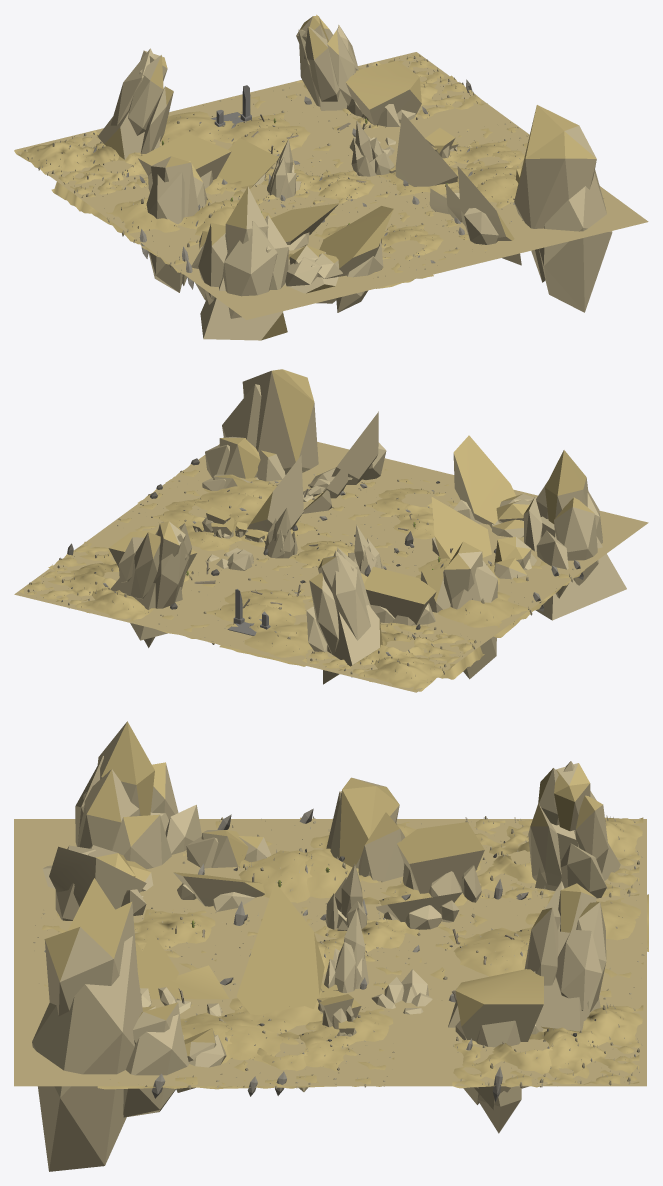
File: desert.glb
The picture shows the model from 3 angles, top to bottom: view 1: azimuth 30°, elevation 25°; view 2: azimuth 150°, elevation 25°; view 3: azimuth 270°, elevation 25°; orthographic projection. The views are drawn at different scales.
Visible parts, largest first — view 1: desertsand, cliffsmountains.020, cliffsmountains.021, Landscape2, Landscape8, Landscape6, cliffsmountains.142, cliffsmountains.085, Landscape7, cliffsmountains.016, cliffsmountains.033, cliffsmountains.086 (+26 smaller); view 2: desertsand, cliffsmountains.020, Landscape2, Landscape8, Landscape1, cliffsmountains.016, Landscape6, Landscape7, cliffsmountains.086, cliffsmountains.093, Landscape5, cliffsmountains.082 (+31 smaller); view 3: desertsand, cliffsmountains.021, Landscape1, cliffsmountains.033, cliffsmountains.020, Landscape7, Landscape6, Landscape8, Landscape2, cliffsmountains.142, Landscape4, cliffsmountains.093 (+40 smaller).
Boxes of the visible parts, x1,y1,x2,y2 form: desertsand: [14, 52, 648, 319]; cliffsmountains.020: [514, 105, 596, 282]; cliffsmountains.021: [539, 170, 612, 312]; Landscape2: [14, 130, 161, 213]; Landscape8: [160, 89, 355, 184]; Landscape6: [89, 174, 327, 289]; cliffsmountains.142: [345, 60, 421, 125]; cliffsmountains.085: [222, 221, 277, 318]; Landscape7: [376, 137, 605, 235]; cliffsmountains.016: [316, 206, 393, 303]; cliffsmountains.033: [395, 112, 457, 186]; cliffsmountains.086: [200, 277, 287, 340]; desertsand: [14, 441, 648, 692]; cliffsmountains.020: [242, 369, 318, 474]; Landscape2: [302, 622, 484, 691]; Landscape8: [156, 569, 312, 666]; Landscape1: [19, 541, 198, 622]; cliffsmountains.016: [453, 435, 515, 524]; Landscape6: [364, 531, 585, 637]; Landscape7: [138, 458, 367, 547]; cliffsmountains.086: [536, 516, 626, 620]; cliffsmountains.093: [364, 566, 436, 624]; Landscape5: [330, 469, 458, 539]; cliffsmountains.082: [554, 497, 598, 585]; desertsand: [14, 819, 646, 1086]; cliffsmountains.021: [32, 935, 142, 1171]; Landscape1: [452, 1003, 643, 1102]; cliffsmountains.033: [236, 882, 324, 1014]; cliffsmountains.020: [44, 902, 137, 1015]; Landscape7: [97, 977, 348, 1098]; Landscape6: [183, 808, 421, 925]; Landscape8: [399, 892, 648, 1002]; Landscape2: [465, 815, 643, 899]; cliffsmountains.142: [455, 969, 543, 1041]; Landscape4: [207, 1006, 394, 1096]; cliffsmountains.093: [397, 822, 484, 893].
Bounding box in the file's own units: 15.34 × 6.69 × 14.86.
